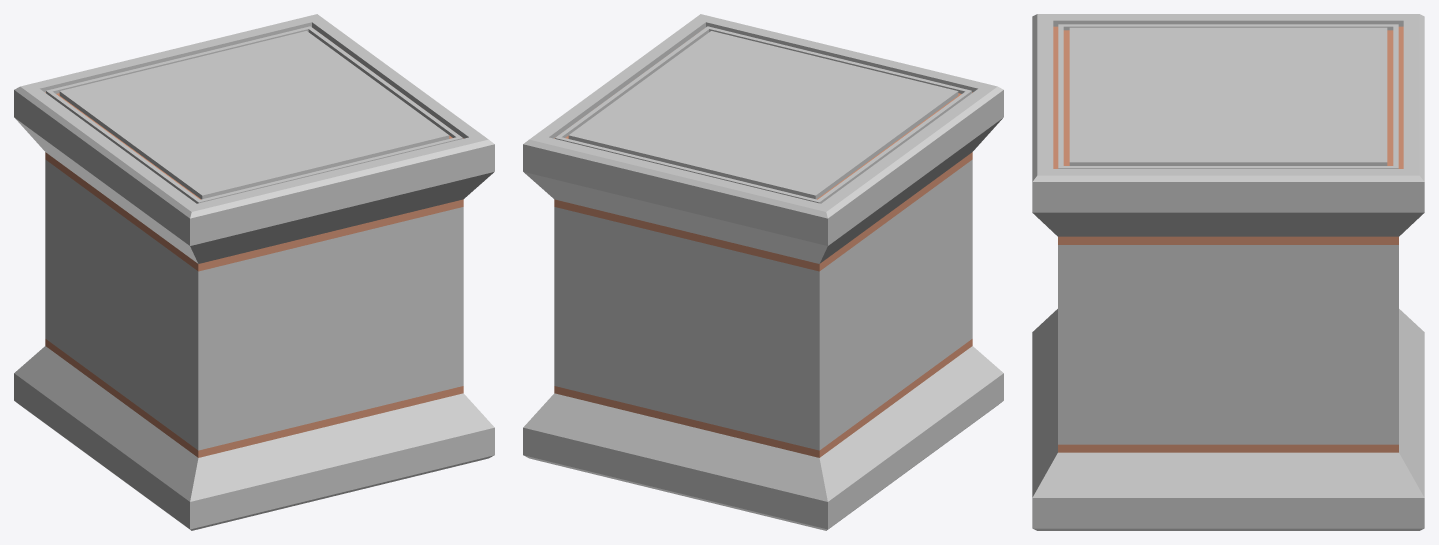
File: Basic1_orig.fbx
3 renders of one model, left to right at view 1: azimuth 30°, elevation 25°; view 2: azimuth 150°, elevation 25°; view 3: azimuth 270°, elevation 25°, orthographic. The views are drawn at different scales.
Parts seen in each view (by area): view 1: Cube.007; view 2: Cube.007; view 3: Cube.007.
Part boxes in pixels (x1,y1,x2,y2): Cube.007: (14,14,494,530); Cube.007: (523,14,1003,530); Cube.007: (1032,14,1424,530).
Bounding box in the file's own units: 100 × 100 × 100.
